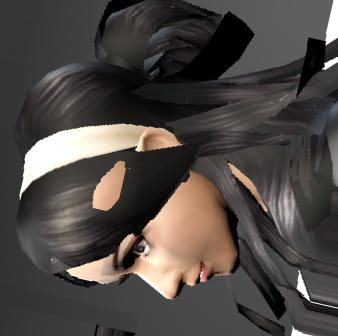clip: (90, 161, 120, 220)
